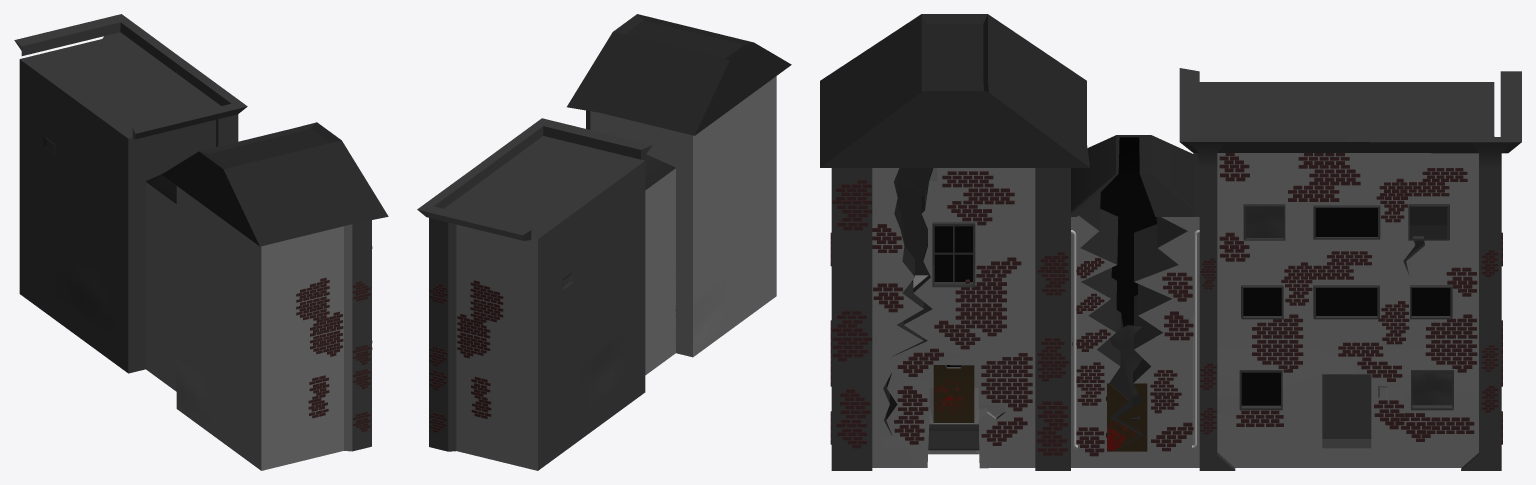
Rendered from buildings.fbx.
The picture shows the model from 3 angles, left to right: view 1: azimuth 30°, elevation 25°; view 2: azimuth 150°, elevation 25°; view 3: azimuth 270°, elevation 25°; orthographic projection. The views are drawn at different scales.
Parts seen in each view (by area): view 1: buildings:weirdbuilding1; view 2: buildings:weirdbuilding1; view 3: buildings:weirdbuilding1.
Boxes of the visible parts, x1,y1,x2,y2 form: buildings:weirdbuilding1: (14,14,388,470); buildings:weirdbuilding1: (417,14,791,470); buildings:weirdbuilding1: (820,14,1521,470).
Bounding box in the file's own units: 369 × 770 × 1286.
1 material, 1 textured.
